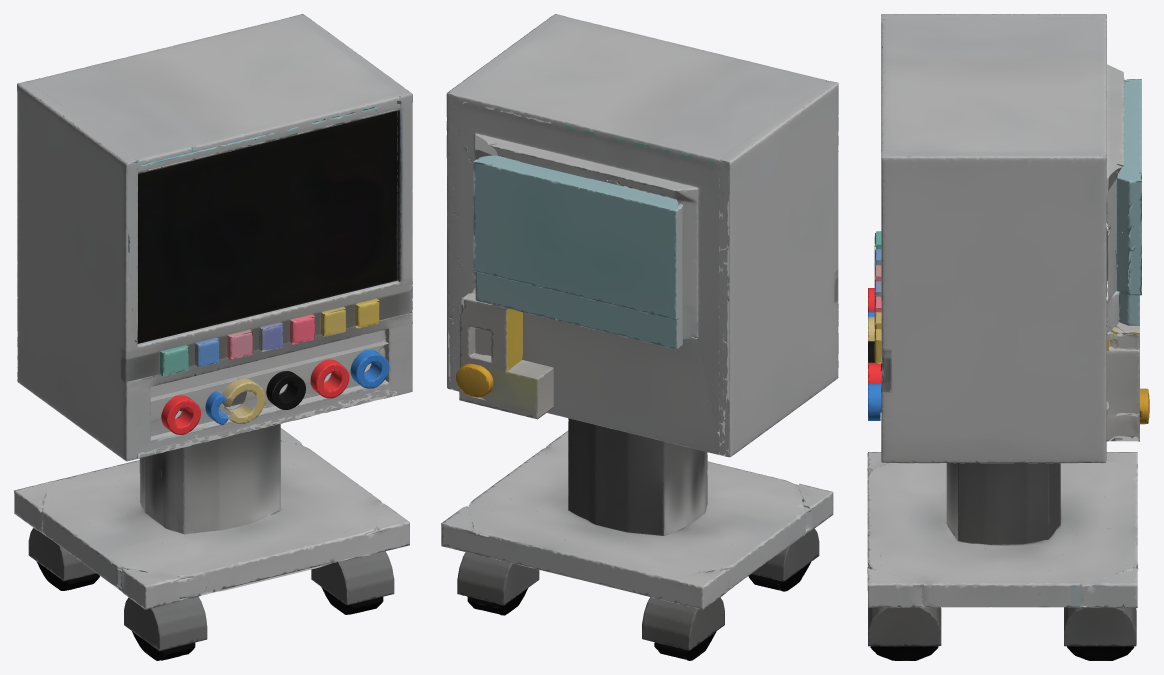
Rendered from ecg-cart.glb.
3 renders of one model, left to right at view 1: azimuth 30°, elevation 25°; view 2: azimuth 150°, elevation 25°; view 3: azimuth 270°, elevation 25°, orthographic. The views are drawn at different scales.
Visible parts, largest first — view 1: geometry_0; view 2: geometry_0; view 3: geometry_0.
Boxes of the visible parts, <box> form: geometry_0: <box>14,14,412,660</box>; geometry_0: <box>441,14,838,660</box>; geometry_0: <box>867,14,1149,660</box>.
Bounding box in the file's own units: 0.5662 × 0.9583 × 0.469.
Materials: 1 (1 with a texture image).
